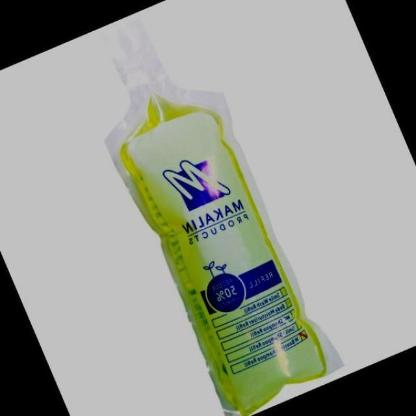Plastic Packaging: (102, 19, 332, 415)
